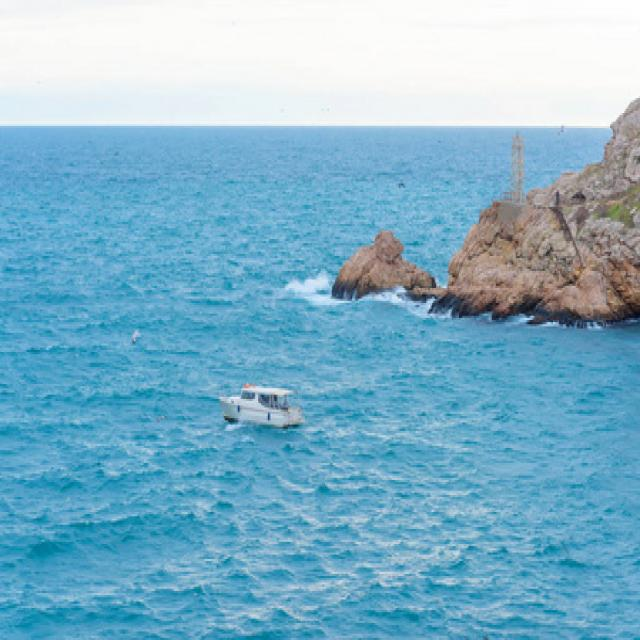houseboat: (214, 374, 300, 430)
